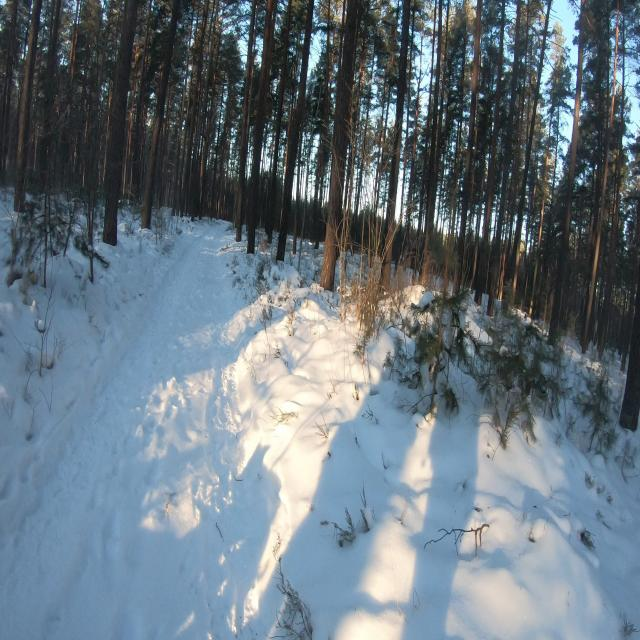bush: (383, 288, 564, 448), (142, 0, 181, 228), (103, 0, 139, 245), (354, 267, 380, 362)
trees: (549, 0, 585, 342), (582, 21, 618, 353), (320, 0, 360, 290), (512, 3, 551, 296), (488, 2, 520, 314), (277, 0, 314, 260), (476, 0, 505, 301), (598, 53, 626, 357), (382, 0, 410, 291), (247, 0, 275, 253), (182, 0, 212, 217), (266, 0, 292, 240), (459, 0, 482, 263), (505, 0, 528, 255), (234, 0, 256, 241), (423, 0, 443, 261), (314, 0, 332, 223), (449, 23, 467, 242), (529, 145, 550, 314), (619, 276, 640, 431), (419, 35, 435, 234), (400, 8, 415, 212), (406, 35, 422, 226), (216, 85, 237, 218), (354, 80, 372, 222), (175, 73, 193, 212), (171, 76, 186, 206), (431, 76, 444, 222), (213, 82, 224, 185), (200, 114, 212, 205), (293, 133, 302, 254), (474, 175, 485, 270), (380, 85, 390, 180), (297, 204, 306, 269), (614, 0, 619, 82), (442, 4, 448, 70), (501, 257, 510, 284), (545, 0, 551, 28), (391, 51, 395, 67), (211, 99, 215, 109), (213, 73, 215, 89)
